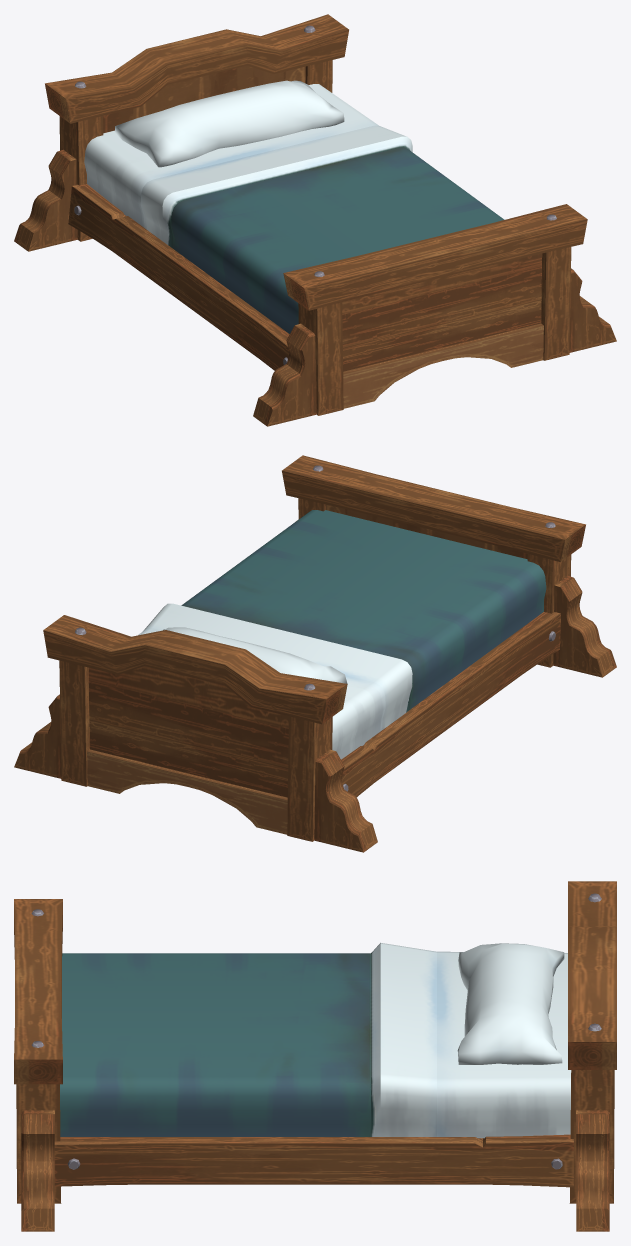
The model's file is Bed_Twin1.gltf.
3 renders of one model, top to bottom at view 1: azimuth 30°, elevation 25°; view 2: azimuth 150°, elevation 25°; view 3: azimuth 270°, elevation 25°, orthographic. The views are drawn at different scales.
Parts seen in each view (by area): view 1: Bed_Twin1; view 2: Bed_Twin1; view 3: Bed_Twin1.
Boxes of the visible parts, x1,y1,x2,y2 form: Bed_Twin1: [14, 14, 616, 426]; Bed_Twin1: [14, 455, 616, 852]; Bed_Twin1: [14, 881, 616, 1231].
Bounding box in the file's own units: 1.88 × 0.8051 × 2.41.
Materials: 3 (3 with a texture image).
